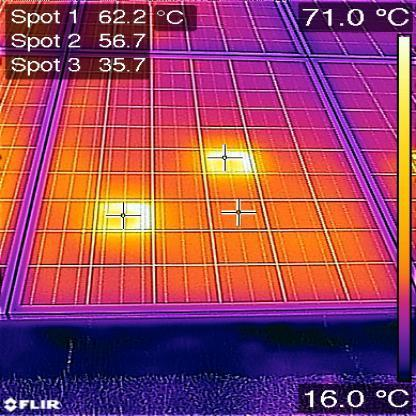anomaly: (91, 194, 153, 235), (192, 141, 262, 177)
